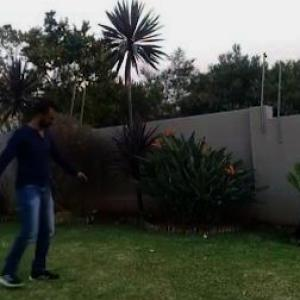land: (1, 90, 94, 300)
